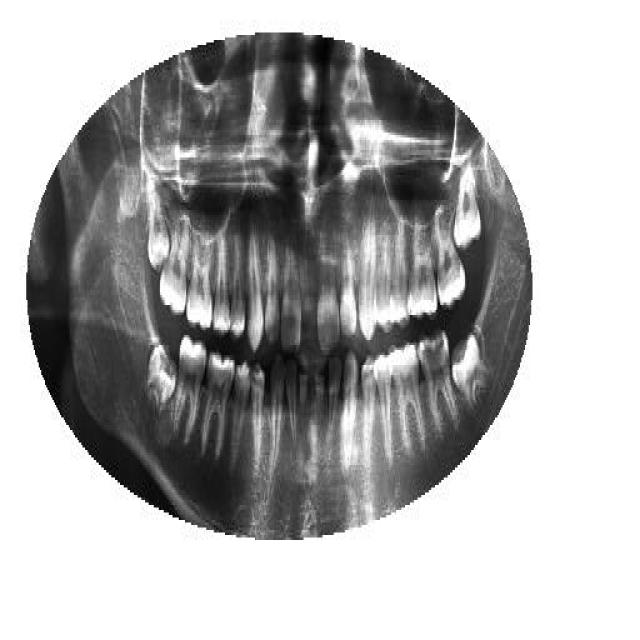Impacted Tooth: (452, 330, 486, 410), (452, 162, 482, 248), (144, 342, 178, 412), (146, 175, 170, 270)
